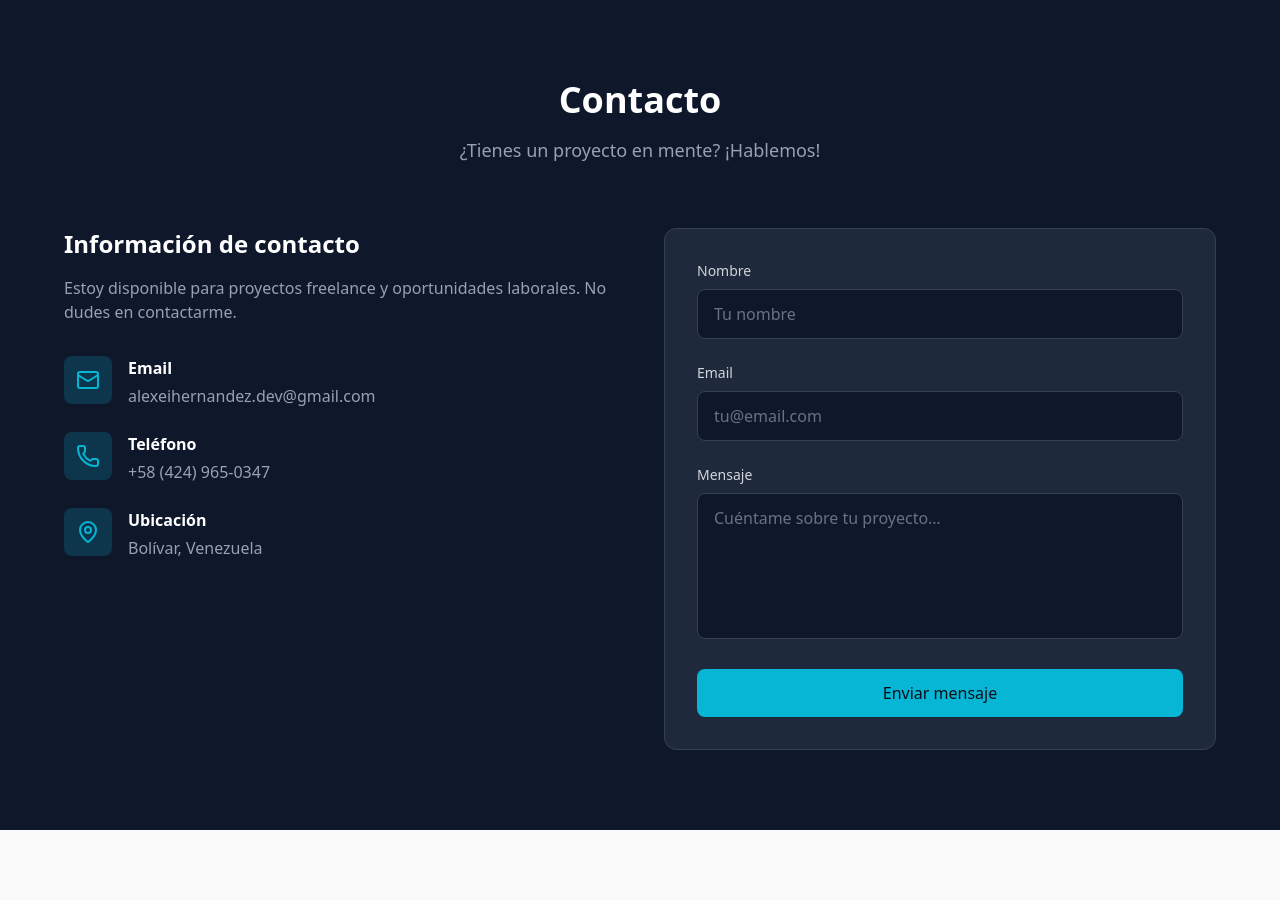
it: Contact form › shows the error toast when the response is not ok
This screenshot has width=1280, height=900.
In the field labelled "Nombre": (940, 314) [697, 289, 1183, 339], type "Alexei"
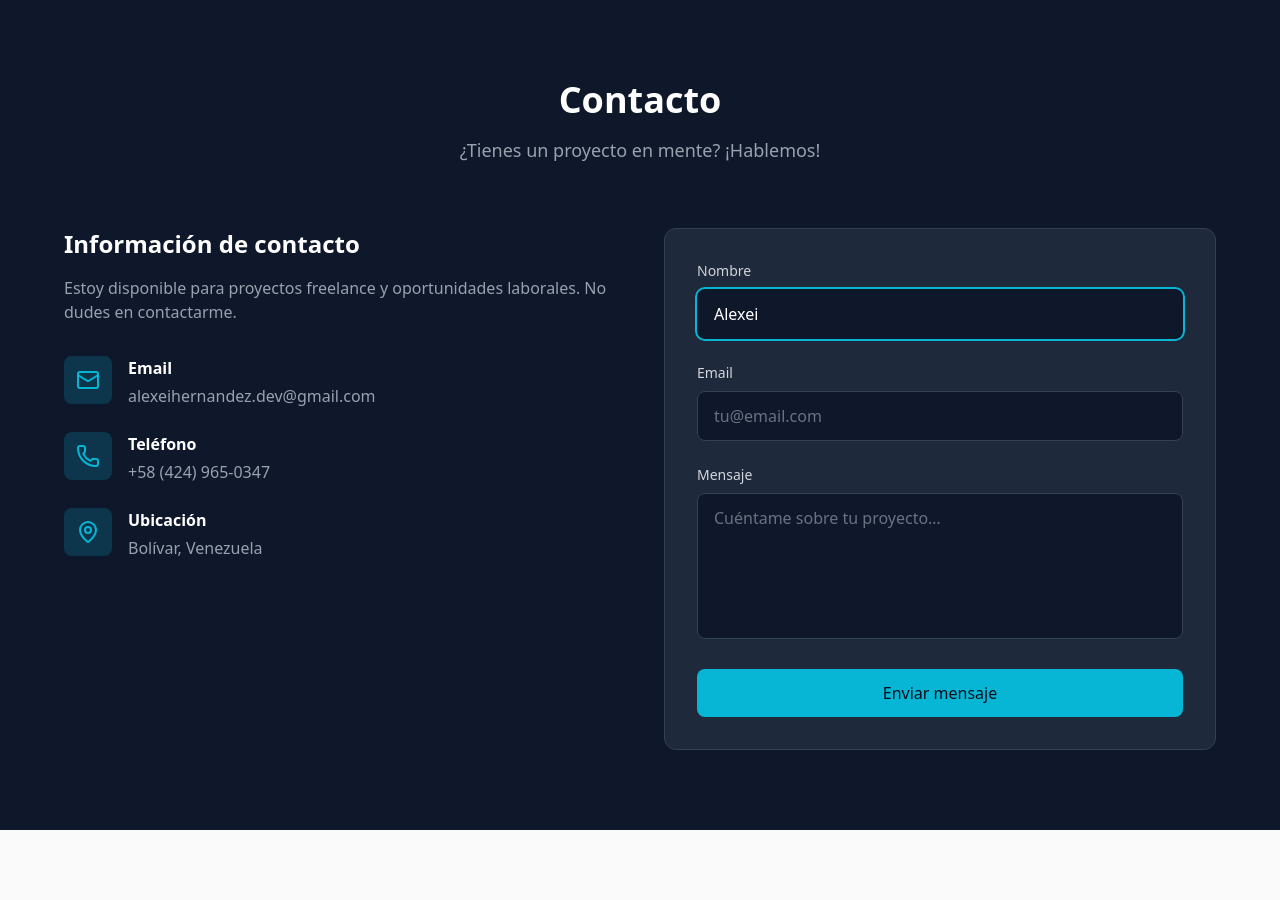
In the field labelled "Email": (940, 416) [697, 391, 1183, 441], type "ah@example.com"
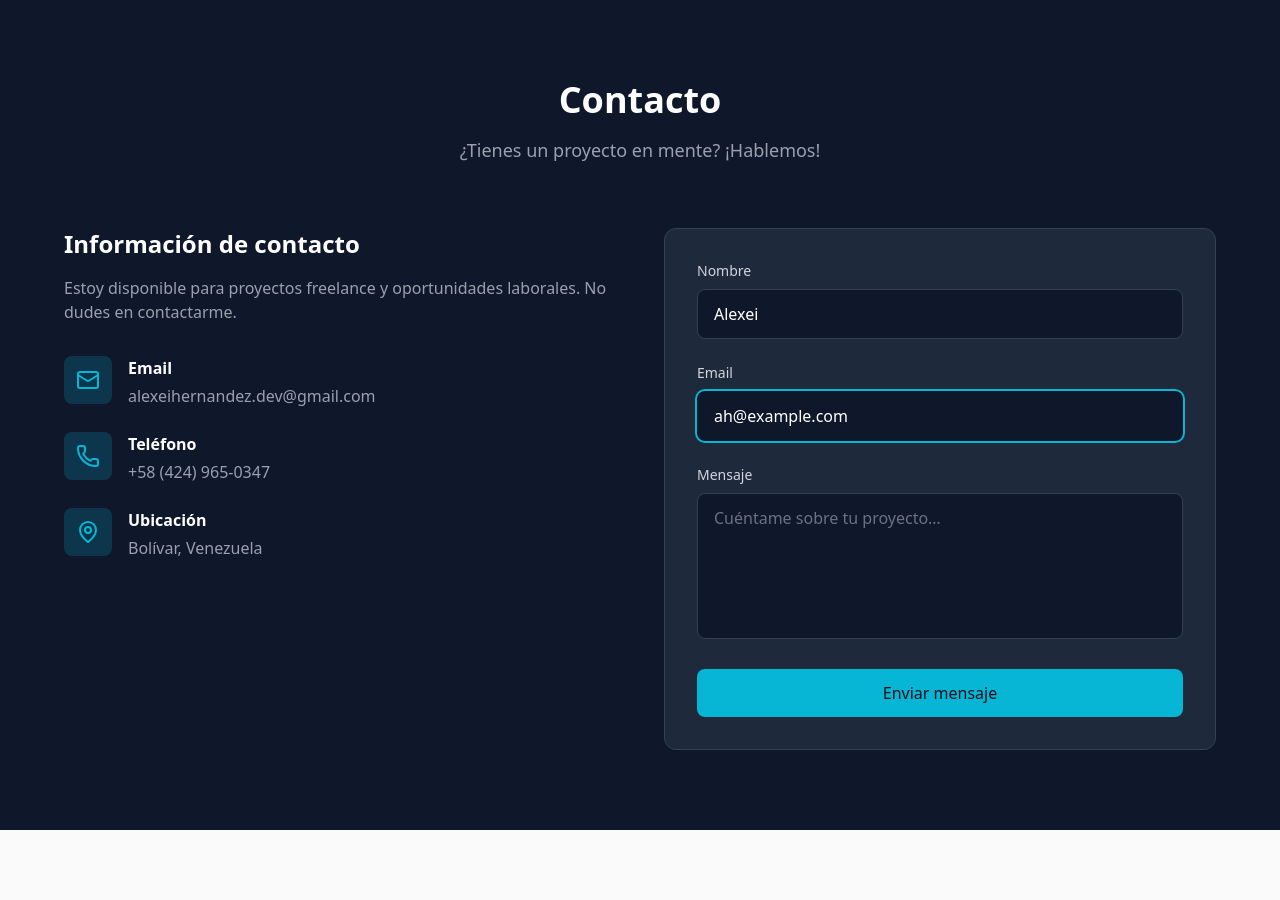
In the text box labelled "Mensaje": (940, 566) [697, 493, 1183, 639], type "Hello there!"
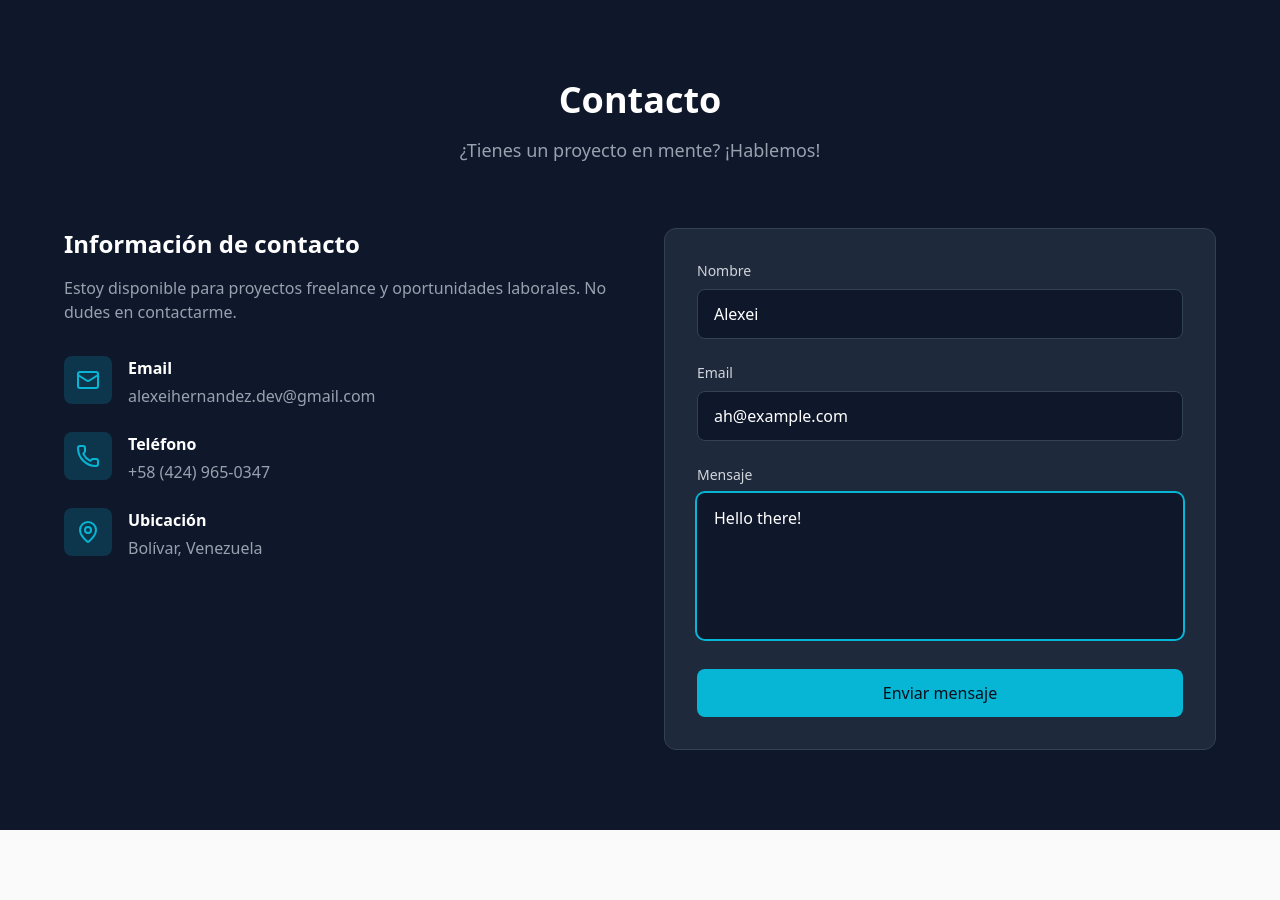
Click the button "Enviar mensaje": (940, 693) [697, 669, 1183, 717]
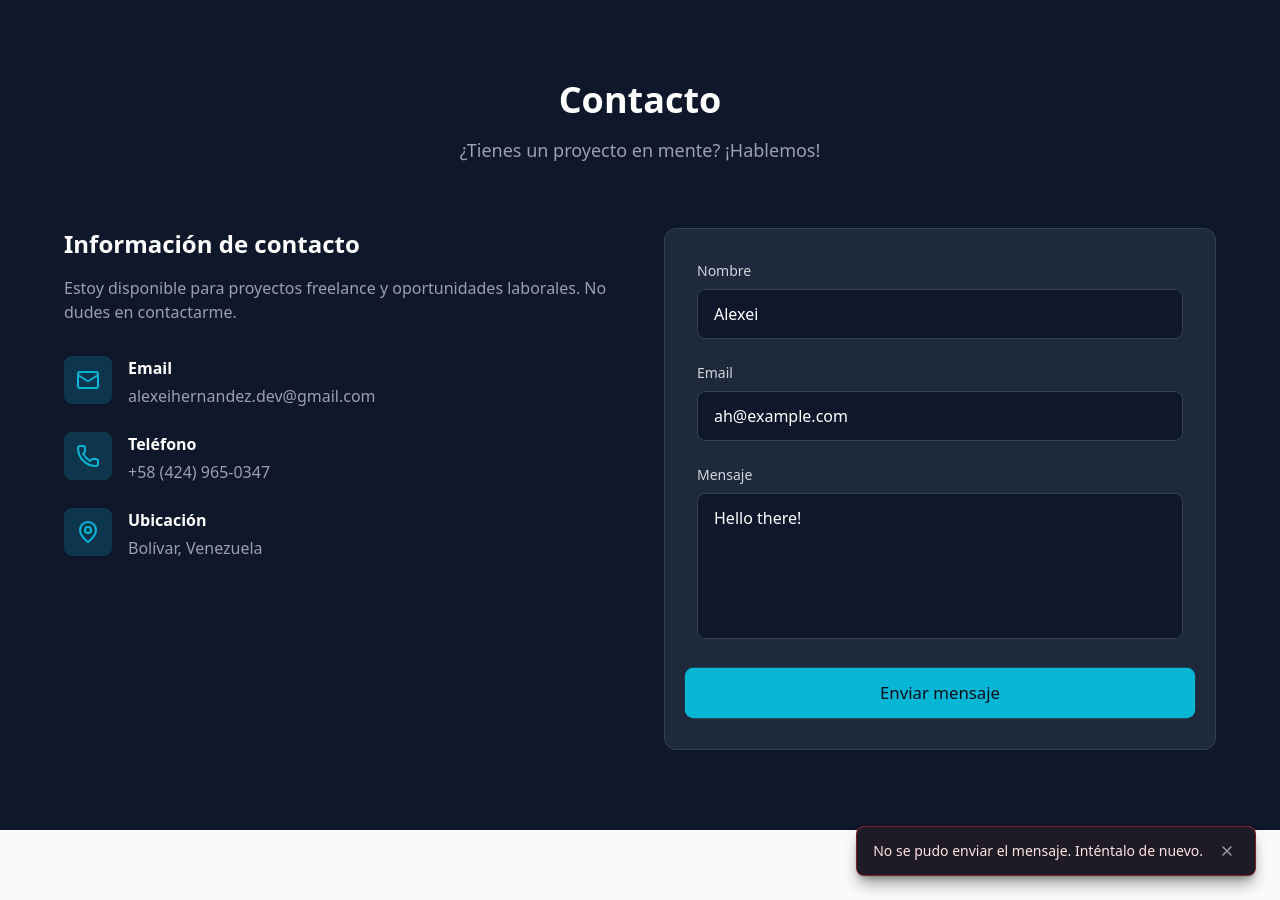
Check: the message "No se pudo enviar el mensaje. Inténtalo de nuevo." is shown, box [856, 826, 1256, 876]
